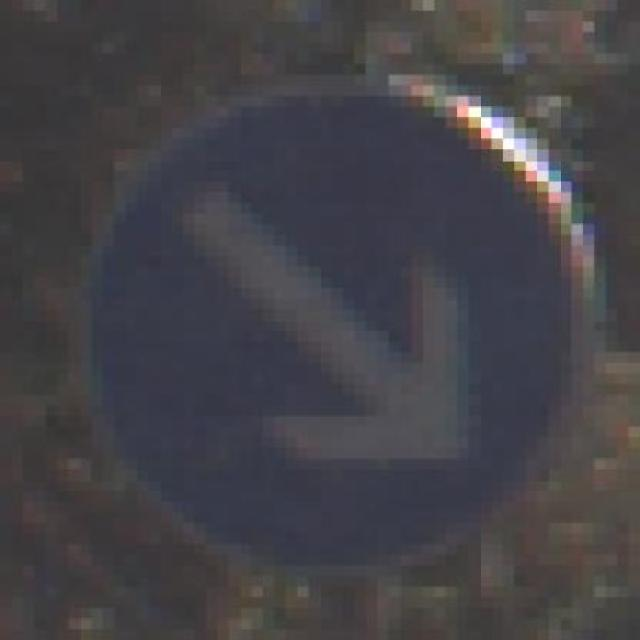Keep-Right: (45, 20, 606, 598)
